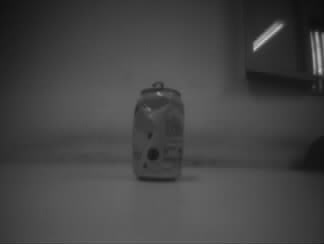Tin can: (130, 80, 185, 183)
